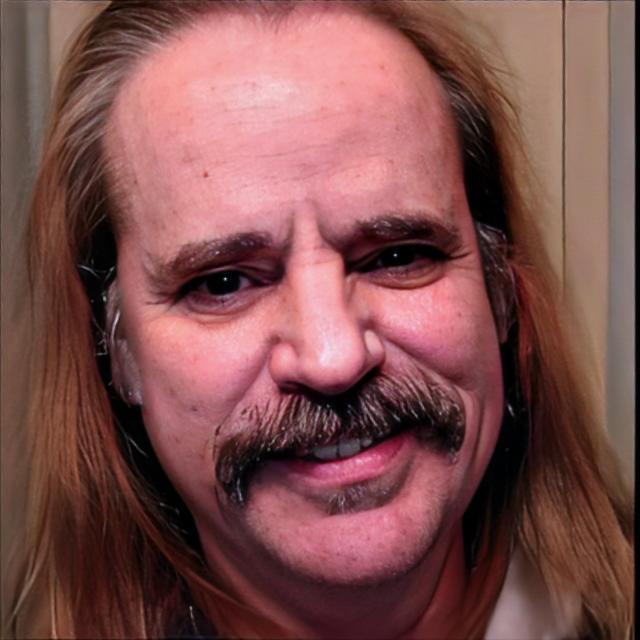disgust: (102, 2, 508, 590)
